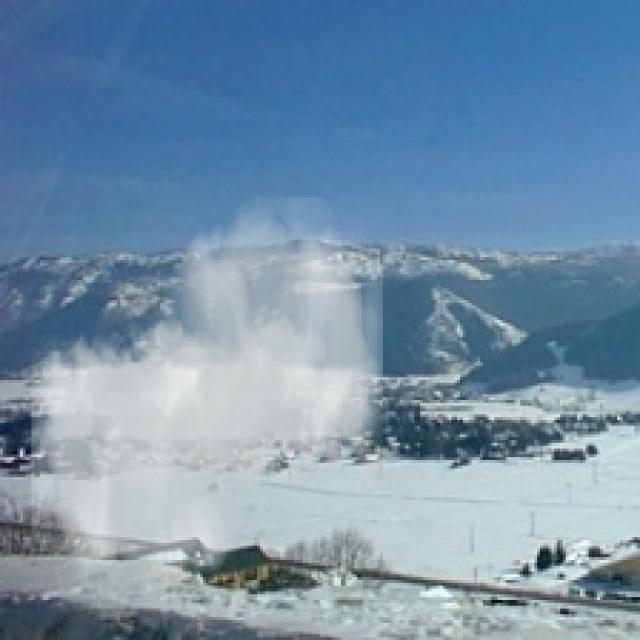smoke: (31, 197, 383, 609)
